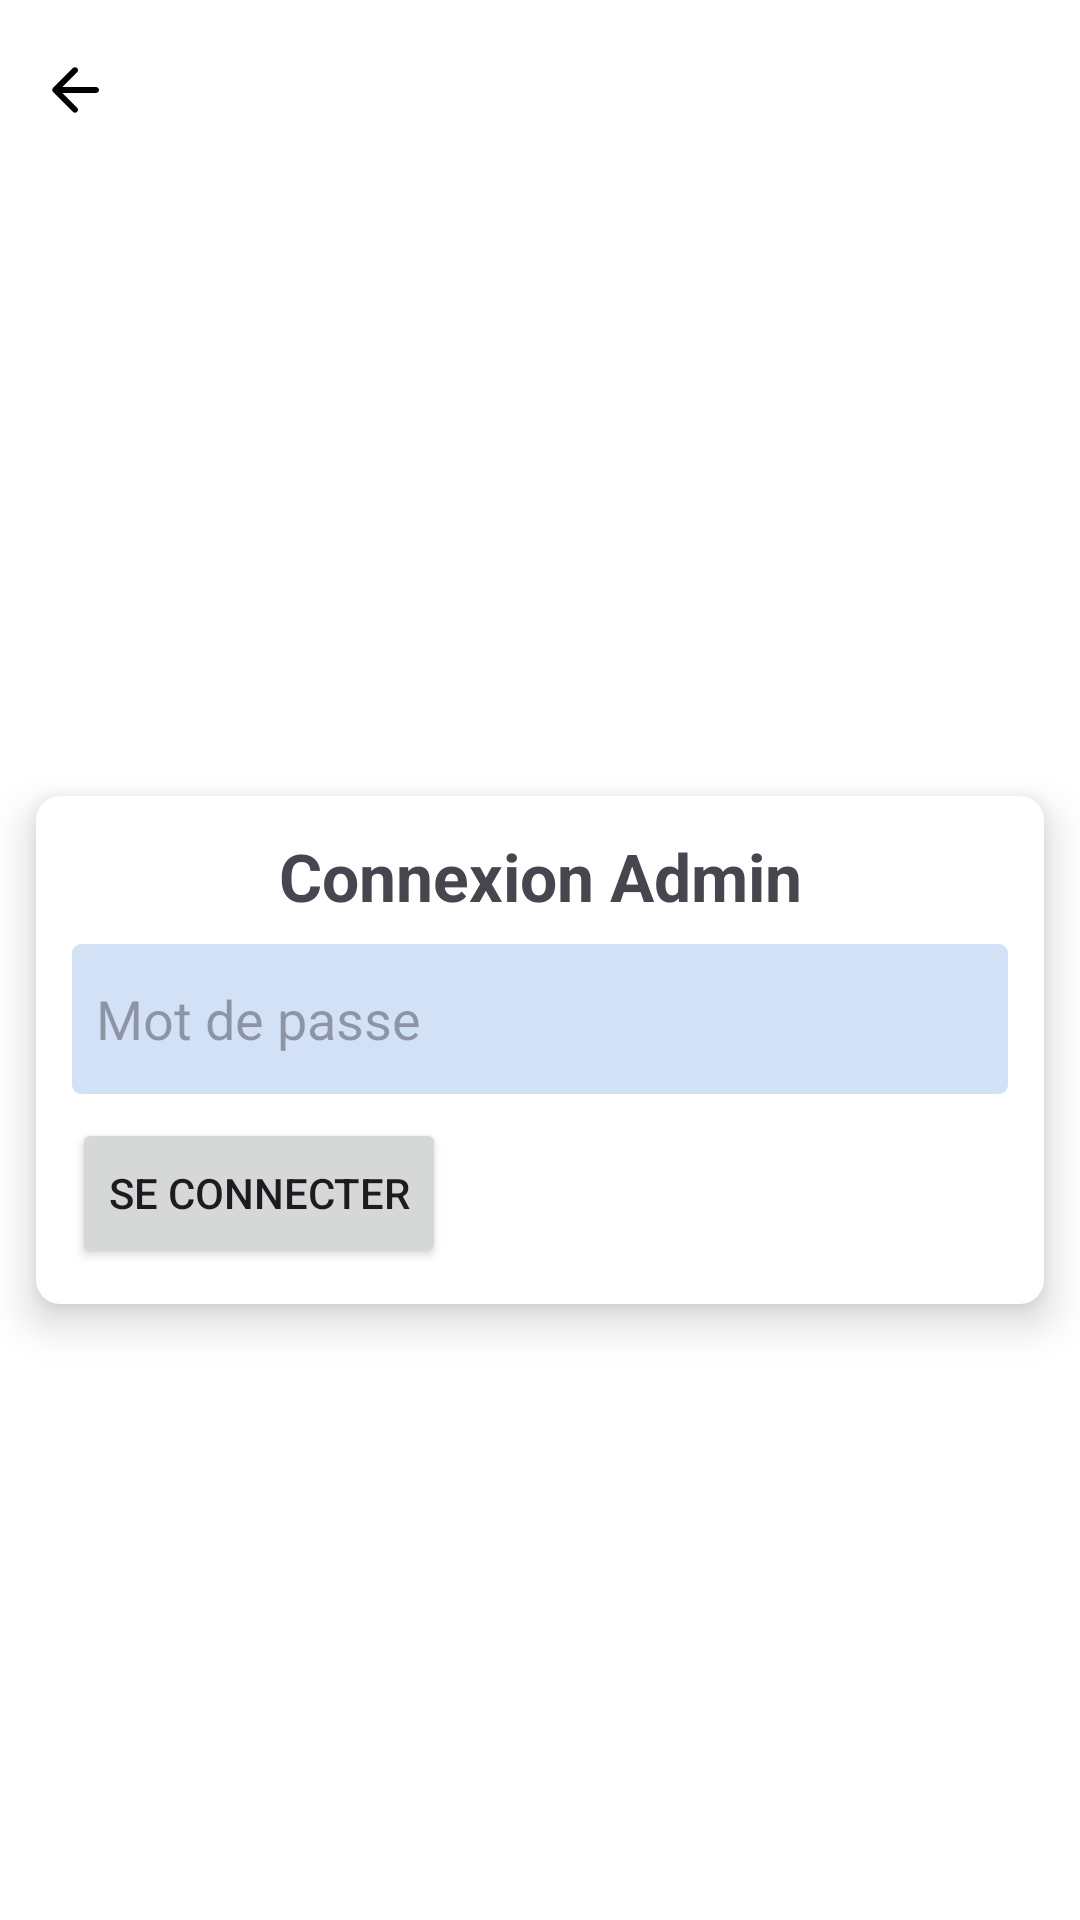

Where icons sit on this 1080x1920 app screen, as detection(x1, y1, x2, y2):
arrow back: detection(52, 67, 99, 113)
